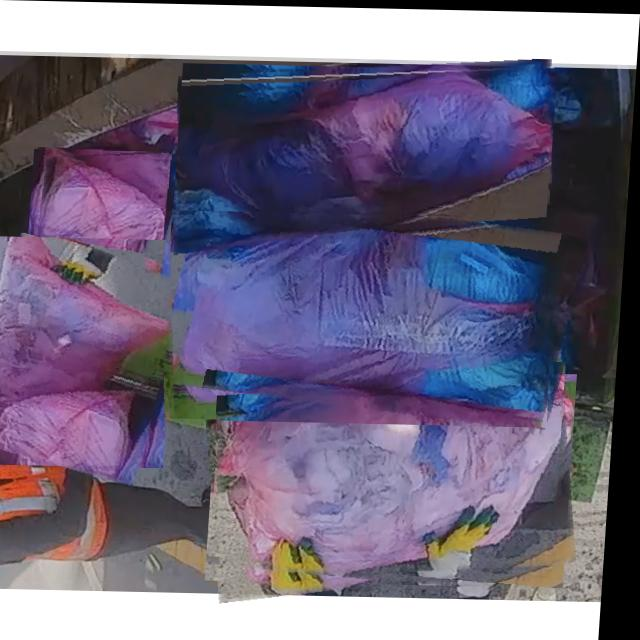other_trashbag: (171, 199, 553, 423), (222, 358, 570, 577), (180, 66, 552, 213), (0, 237, 179, 425), (34, 154, 168, 337)
